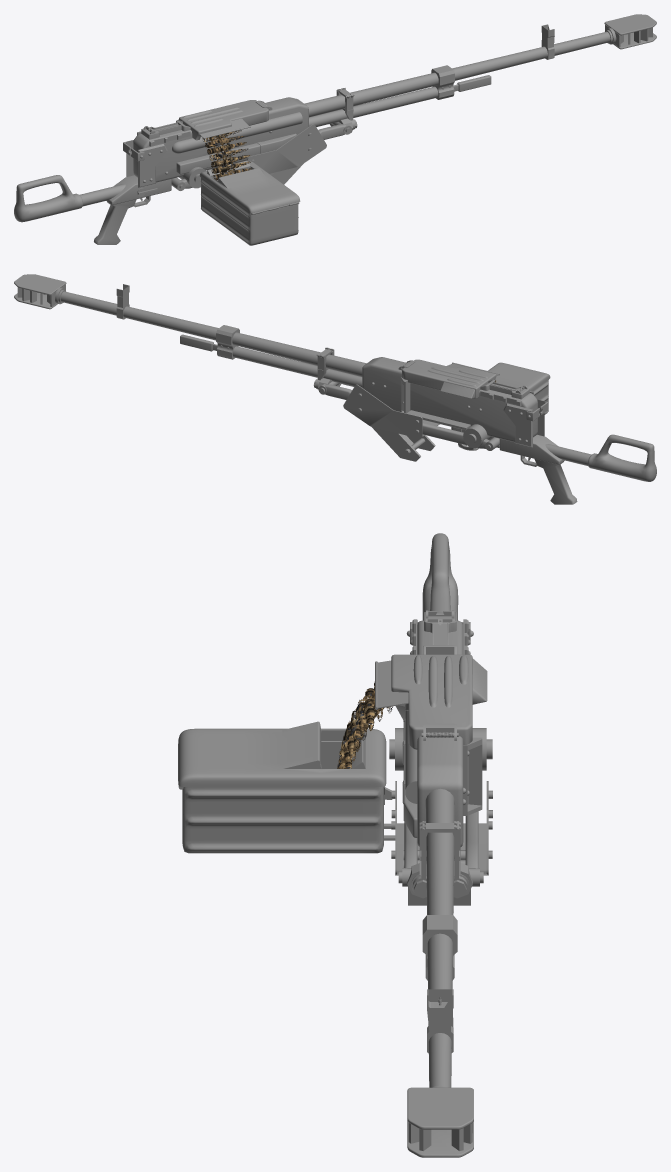
File: Kord Machine Gun.obj
The picture shows the model from 3 angles, top to bottom: view 1: azimuth 30°, elevation 25°; view 2: azimuth 150°, elevation 25°; view 3: azimuth 270°, elevation 25°; orthographic projection. The views are drawn at different scales.
Visible parts, largest first — view 1: Kord_Machine_Gun, Ammo; view 2: Kord_Machine_Gun; view 3: Kord_Machine_Gun, Ammo.
Boxes of the visible parts, left/top/right/bottom form: Kord_Machine_Gun: left=14, top=14, right=656, bottom=245; Ammo: left=201, top=130, right=251, bottom=180; Kord_Machine_Gun: left=14, top=274, right=656, bottom=504; Kord_Machine_Gun: left=178, top=533, right=492, bottom=1157; Ammo: left=337, top=681, right=392, bottom=768.
Size of the model in its own units: 672 by 111 by 144.
